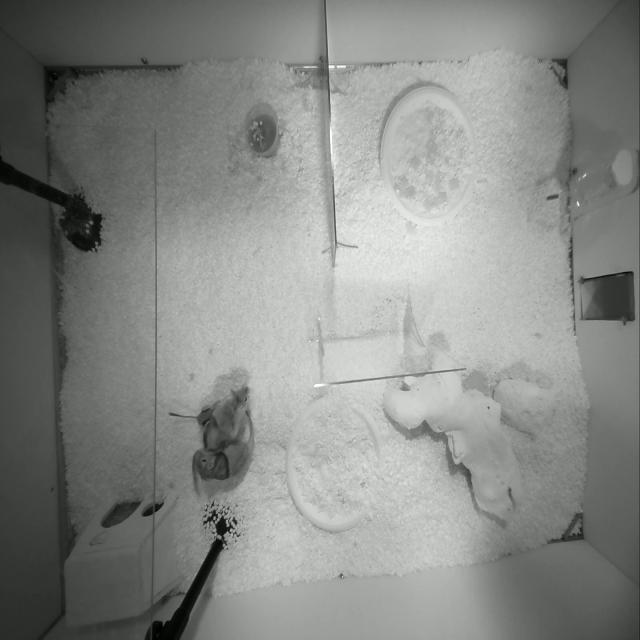adult_back: (203, 387, 248, 447)
adult_front: (194, 407, 254, 480)
pup_v_stripe: (170, 403, 216, 434)
